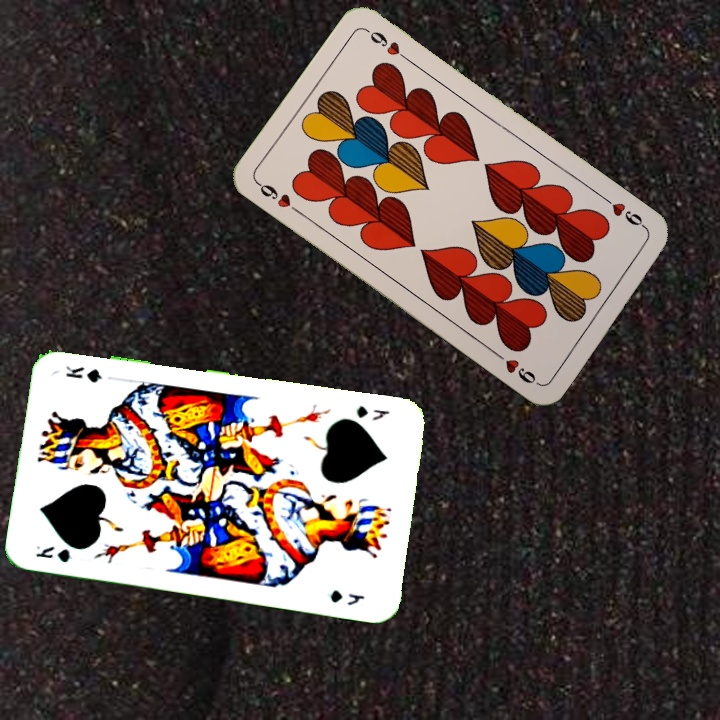GK: (31, 541, 76, 565), (352, 401, 392, 423)
H9: (599, 193, 651, 233), (253, 178, 305, 217)
